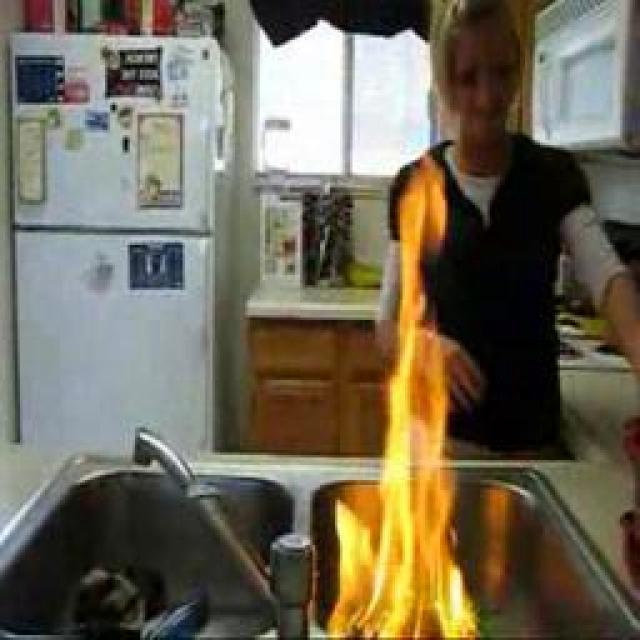Fire: (331, 170, 470, 638)
